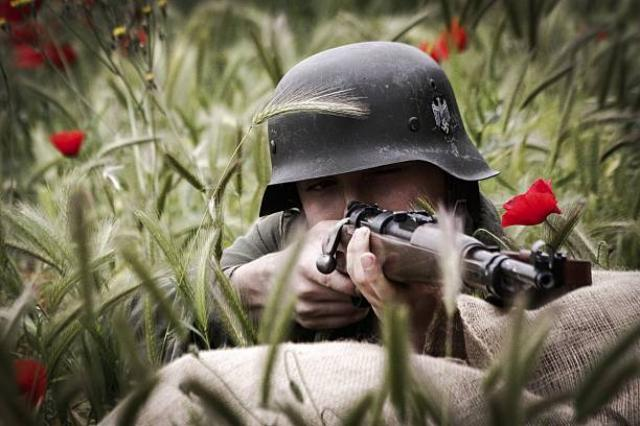other: (244, 49, 512, 337)
